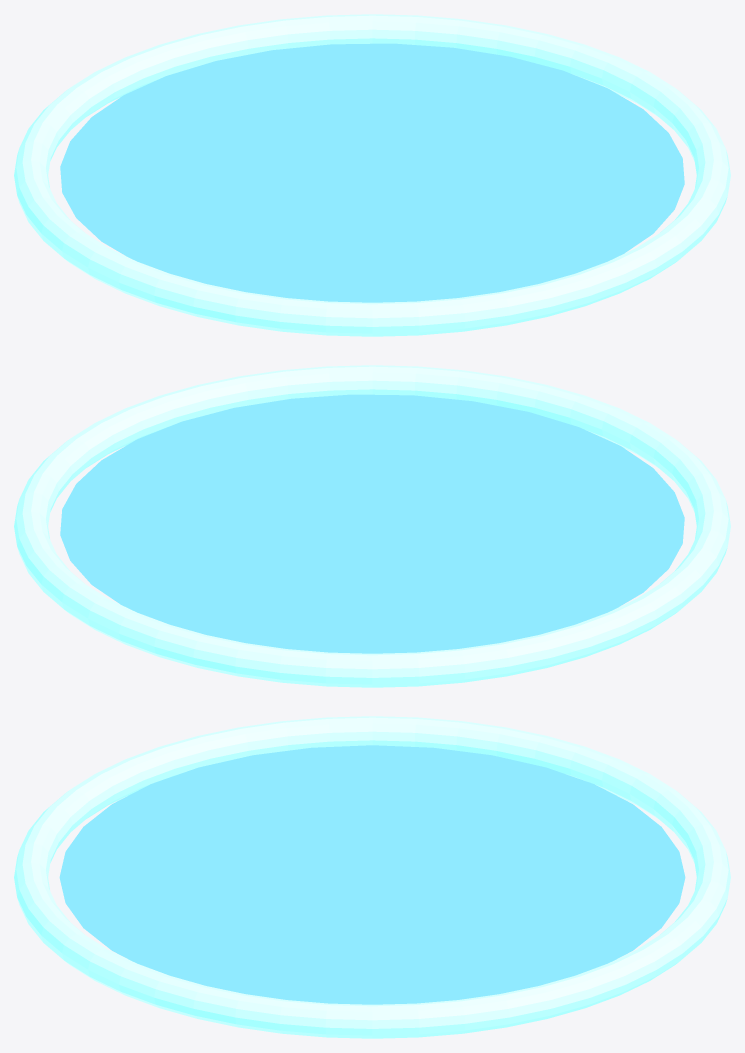
The model's file is quantum_tunnel_ring.glb.
3 renders of one model, top to bottom at view 1: azimuth 30°, elevation 25°; view 2: azimuth 150°, elevation 25°; view 3: azimuth 270°, elevation 25°, orthographic.
Visible parts, largest first — view 1: Circle, TunnelRing; view 2: Circle, TunnelRing; view 3: Circle, TunnelRing.
Boxes of the visible parts, x1,y1,x2,y2 form: Circle: (60,43,684,302); TunnelRing: (14,14,730,336); Circle: (60,394,684,653); TunnelRing: (14,365,730,687); Circle: (59,745,685,1004); TunnelRing: (14,716,730,1038).
Bounding box in the file's own units: 12.6 × 0.6 × 12.6.
